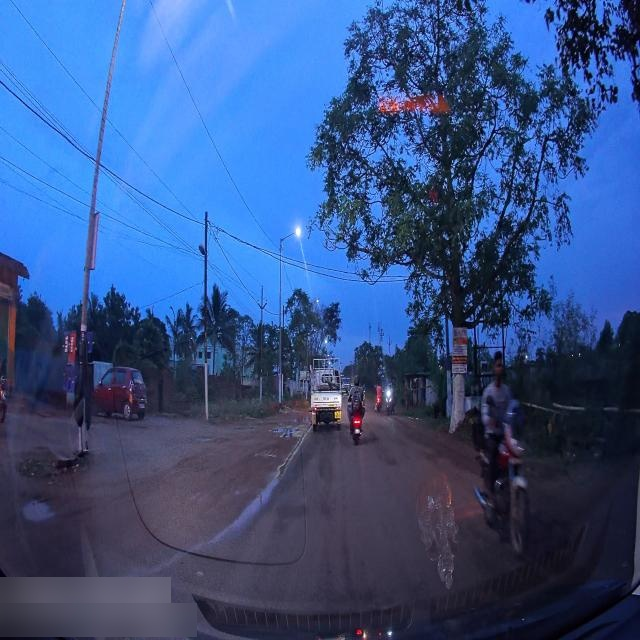pothole: (20, 494, 58, 527)
